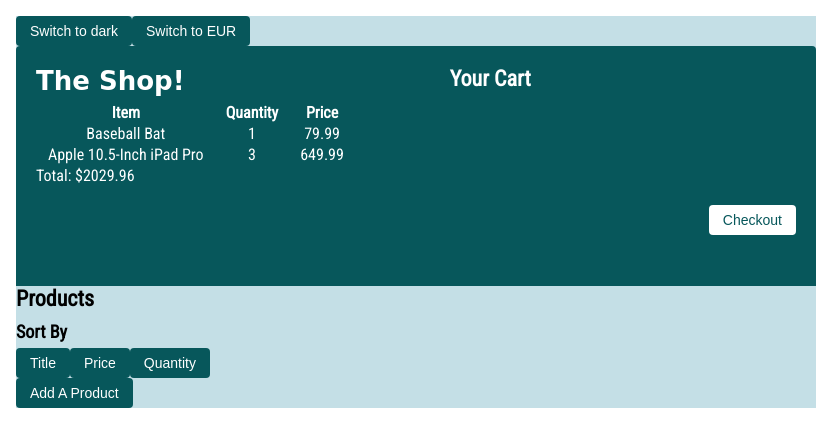
it: Clicking checkout clears the cart.
The width and height of the screenshot is (833, 425).
Expected: the text "Baseball Bat" is shown, [38,124,214,143]
Click the button with test id "checkout-with-items" at (752, 220), box [709,205,796,235]
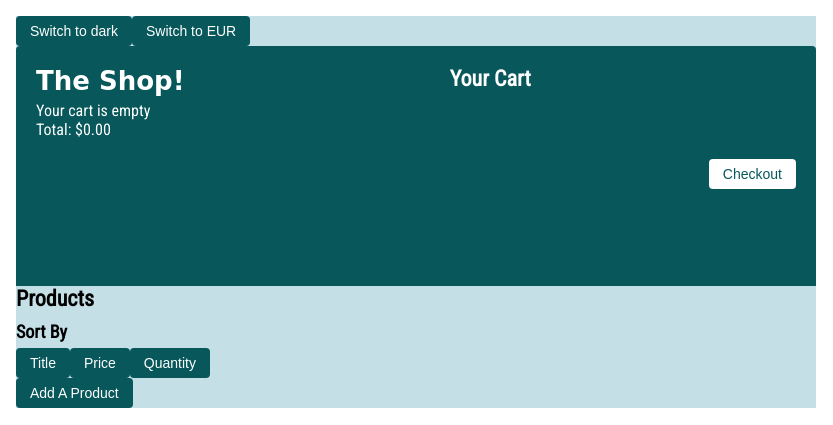
Result: the text "Baseball Bat" is gone
